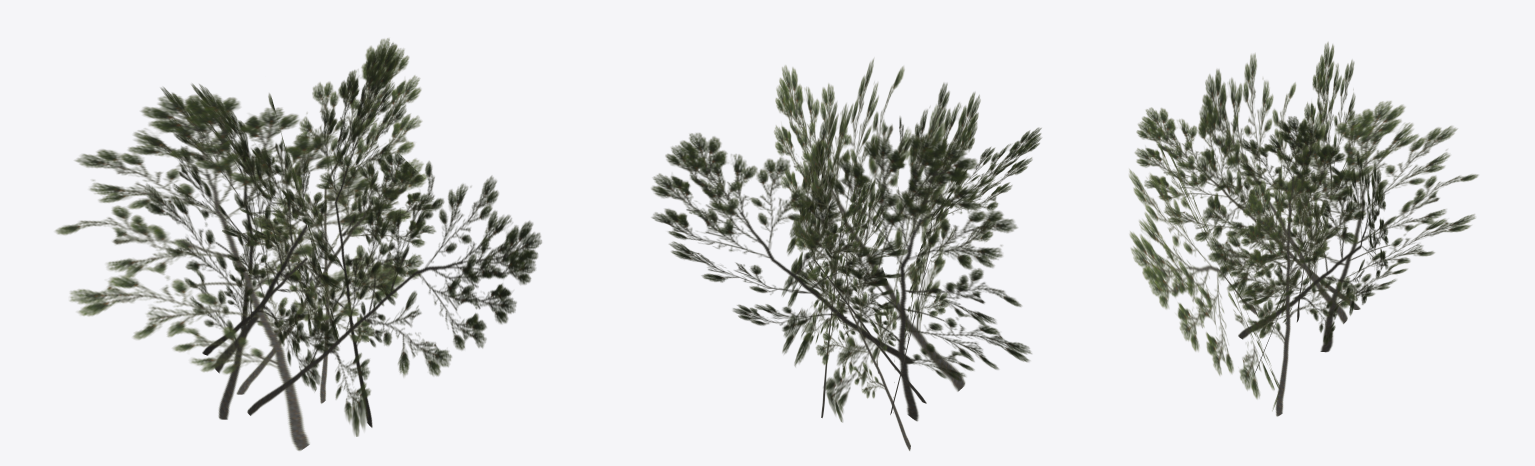
File: forest_bush_05.glb
The picture shows the model from 3 angles, left to right: view 1: azimuth 30°, elevation 25°; view 2: azimuth 150°, elevation 25°; view 3: azimuth 270°, elevation 25°; orthographic projection. The views are drawn at different scales.
Parts seen in each view (by area): view 1: Background_Tree_Atlas.012_Background_Tree_Atlas_0; view 2: Background_Tree_Atlas.012_Background_Tree_Atlas_0; view 3: Background_Tree_Atlas.012_Background_Tree_Atlas_0.
Part boxes in pixels (x1=…): Background_Tree_Atlas.012_Background_Tree_Atlas_0: x1=55, y1=38, x2=541, y2=450; Background_Tree_Atlas.012_Background_Tree_Atlas_0: x1=651, y1=59, x2=1041, y2=450; Background_Tree_Atlas.012_Background_Tree_Atlas_0: x1=1129, y1=42, x2=1478, y2=416.
Bounding box in the file's own units: 1.46 × 1.2 × 1.3.
1 material, 1 textured.
